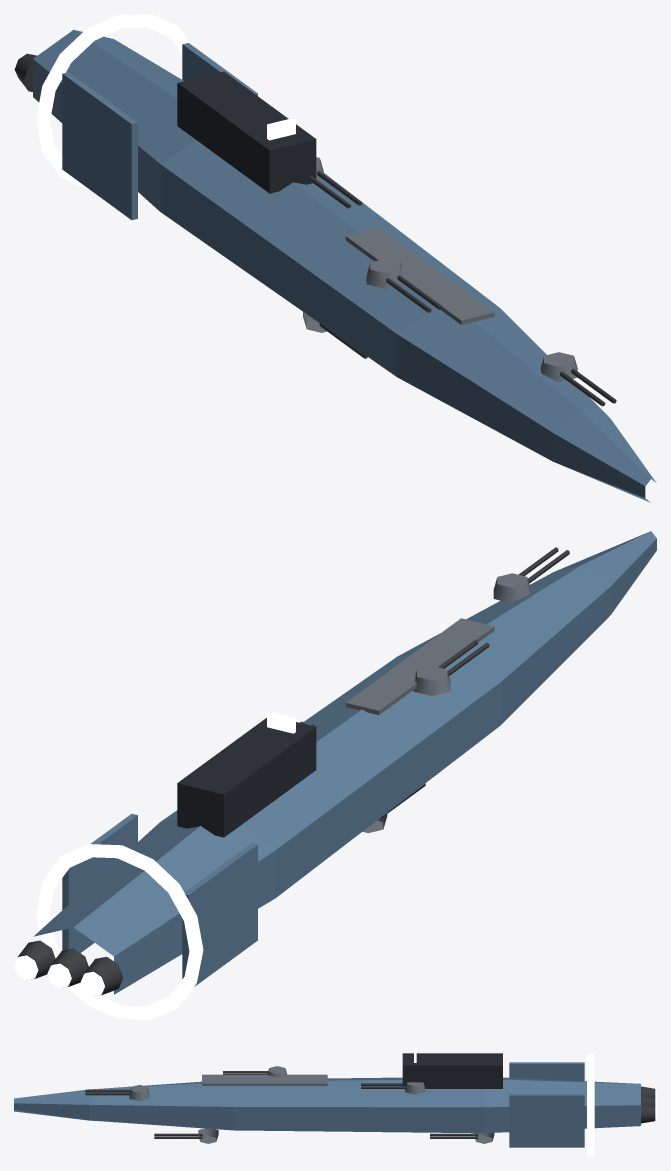
File: space_ship_frigate_mk6.glb
3 views of the same model, one above another, from view 1: azimuth 30°, elevation 25°; view 2: azimuth 150°, elevation 25°; view 3: azimuth 270°, elevation 25° (orthographic). The views are drawn at different scales.
Visible parts, largest first — view 1: body, turret_2, turret_0; view 2: body, turret_2, turret_0, engine_0, engine_1, engine_2; view 3: body, turret_0, turret_1, turret_4, turret_5, turret_2, engine_2.
Part boxes in pixels (box(x1,y1,x2,y2)): body: box(33, 14, 656, 502); turret_2: box(366, 258, 441, 312); turret_0: box(540, 352, 616, 406); body: box(33, 531, 656, 1019); turret_2: box(413, 640, 489, 695); turret_0: box(493, 547, 569, 602); engine_0: box(81, 956, 123, 996); engine_1: box(47, 948, 88, 988); engine_2: box(14, 940, 55, 980); body: box(14, 1048, 640, 1156); turret_0: box(85, 1085, 149, 1100); turret_1: box(154, 1128, 218, 1143); turret_4: box(361, 1082, 425, 1094); turret_5: box(430, 1133, 494, 1143); turret_2: box(223, 1066, 287, 1077); engine_2: box(641, 1104, 656, 1123).
Size of what is drawn, in the model's own units: 7.96 by 8.49 by 49.22.
